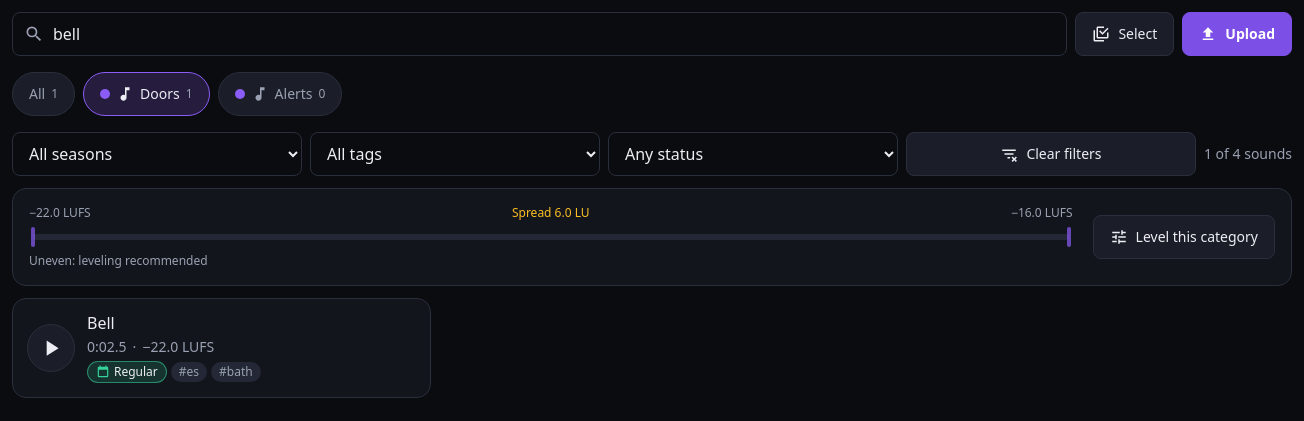
Scenario: filters in the route query › clears every filter at once
The image size is (1304, 421).
Click the button with test id "clear-filters".
click(1051, 154)  # box [906, 132, 1196, 176]
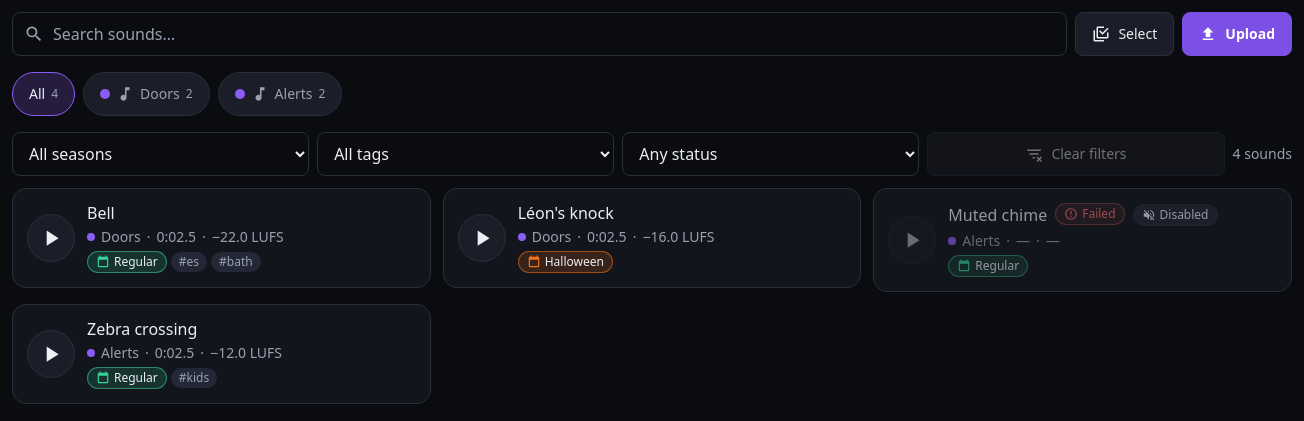
Now the search field with test id "search" is empty, box [12, 12, 1067, 56]
